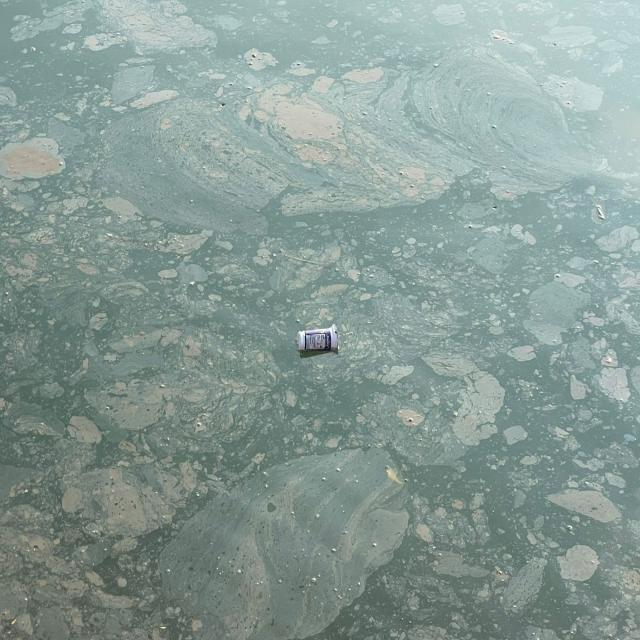Bungkus Minuman: (296, 317, 346, 364)
